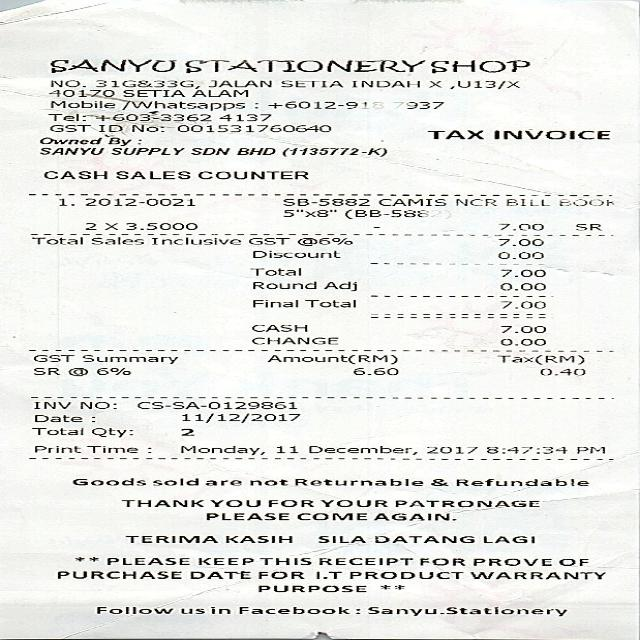text: (48, 58, 527, 72), (365, 606, 564, 616), (46, 110, 209, 120), (264, 100, 442, 108), (128, 124, 328, 131), (266, 354, 394, 364), (118, 100, 242, 110), (58, 196, 194, 205), (179, 412, 297, 422), (491, 129, 607, 139), (134, 401, 294, 408), (466, 571, 604, 579), (306, 445, 415, 455), (343, 208, 451, 218), (93, 79, 198, 89), (280, 146, 384, 156), (393, 499, 536, 506), (236, 605, 356, 613), (80, 354, 174, 364), (454, 478, 586, 485), (347, 571, 460, 579), (373, 195, 448, 207), (294, 478, 422, 485), (195, 170, 305, 178), (280, 196, 367, 206), (255, 584, 363, 592), (56, 571, 179, 578), (495, 354, 581, 364), (179, 445, 262, 455), (249, 335, 335, 344), (244, 266, 298, 280), (149, 236, 238, 244), (251, 249, 337, 257), (374, 535, 472, 542), (36, 135, 102, 145), (371, 512, 453, 520), (118, 88, 183, 98), (446, 80, 518, 89), (105, 557, 186, 565), (124, 535, 216, 542), (93, 605, 172, 613), (32, 412, 78, 425), (46, 88, 112, 97), (69, 477, 143, 485), (115, 170, 188, 178), (483, 446, 565, 453), (316, 558, 411, 564), (119, 499, 200, 506), (205, 512, 286, 519), (469, 558, 550, 565), (425, 129, 481, 139), (504, 294, 544, 308), (46, 99, 112, 107), (47, 124, 120, 131), (109, 147, 182, 154), (189, 88, 245, 97), (279, 208, 335, 217), (294, 237, 350, 246), (250, 280, 313, 288), (124, 222, 195, 229), (42, 170, 104, 178), (557, 197, 612, 206), (347, 79, 417, 86), (187, 570, 248, 578), (296, 512, 365, 519), (223, 535, 290, 542), (36, 147, 102, 154), (318, 499, 384, 506), (277, 79, 341, 86), (196, 557, 252, 565), (206, 79, 269, 86), (89, 427, 130, 437), (29, 426, 80, 434), (84, 444, 134, 452), (499, 324, 543, 333), (259, 557, 308, 565), (452, 197, 495, 206), (507, 197, 549, 206), (250, 324, 304, 331), (497, 282, 543, 290), (307, 298, 353, 306), (32, 444, 78, 452), (417, 557, 463, 565), (321, 280, 354, 291), (540, 367, 585, 375), (150, 477, 195, 485), (90, 236, 141, 243), (29, 236, 80, 243), (497, 222, 541, 230), (499, 268, 543, 276), (251, 298, 295, 306), (219, 113, 269, 120), (425, 446, 475, 453), (482, 535, 531, 542), (209, 499, 257, 506), (315, 535, 363, 542), (349, 367, 396, 374), (255, 571, 301, 578), (247, 236, 287, 244), (266, 499, 311, 506), (32, 353, 71, 361), (497, 238, 541, 245), (233, 147, 273, 154), (495, 252, 541, 258), (248, 478, 286, 485), (499, 338, 543, 344), (190, 147, 227, 154), (31, 401, 68, 408), (78, 401, 114, 408), (51, 79, 84, 86), (94, 367, 127, 374), (64, 366, 85, 376), (556, 558, 585, 565), (575, 222, 600, 230), (312, 571, 340, 578), (274, 444, 295, 453), (576, 446, 603, 453), (31, 367, 57, 374), (109, 136, 130, 144), (202, 480, 238, 484), (209, 605, 227, 613), (429, 478, 446, 485), (180, 608, 203, 613), (102, 222, 115, 229), (179, 428, 191, 435), (427, 80, 439, 86), (83, 222, 93, 229)
